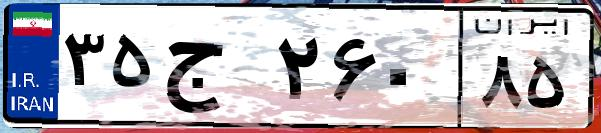0: (385, 28, 445, 110)
2: (270, 28, 330, 110)
3: (57, 26, 110, 100)
5: (525, 38, 570, 115), (110, 28, 158, 98)
6: (330, 28, 385, 110)
8: (475, 38, 525, 113)
ج: (158, 20, 270, 120)
